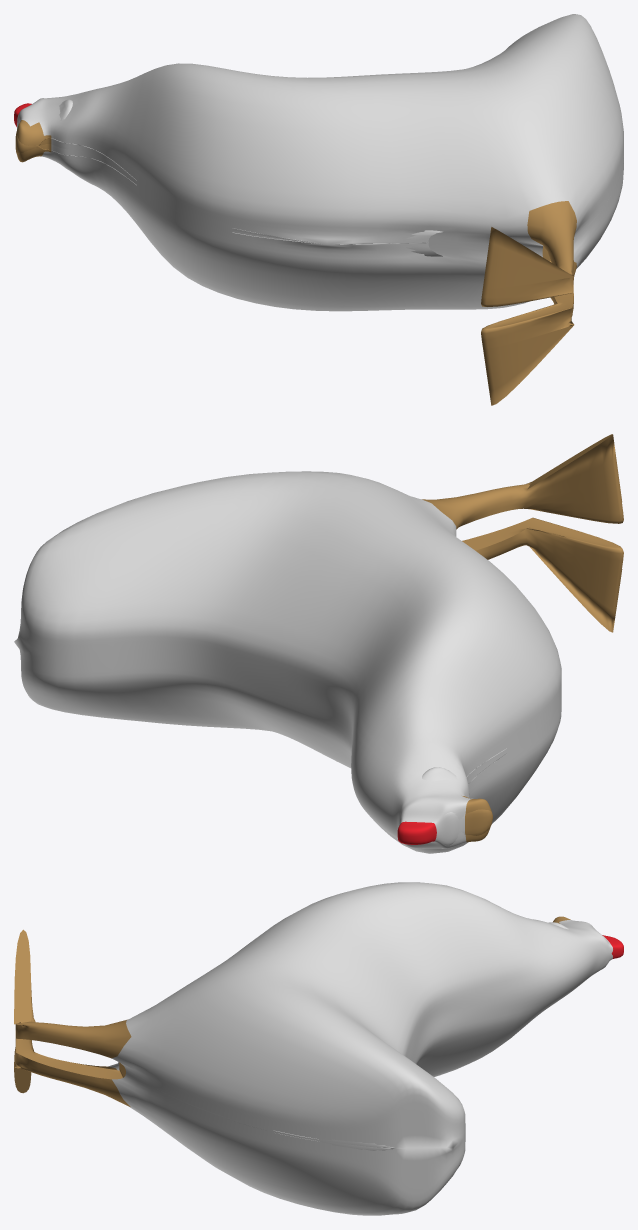
File: Chicken.fbx
3 renders of one model, top to bottom at view 1: azimuth 30°, elevation 25°; view 2: azimuth 150°, elevation 25°; view 3: azimuth 270°, elevation 25°, orthographic. The views are drawn at different scales.
Parts seen in each view (by area): view 1: Chicken; view 2: Chicken; view 3: Chicken.
Part boxes in pixels (x1,y1,x2,y2): Chicken: [14, 14, 623, 405]; Chicken: [14, 434, 623, 853]; Chicken: [14, 882, 623, 1215].
Bounding box in the file's own units: 259 × 112 × 306.
